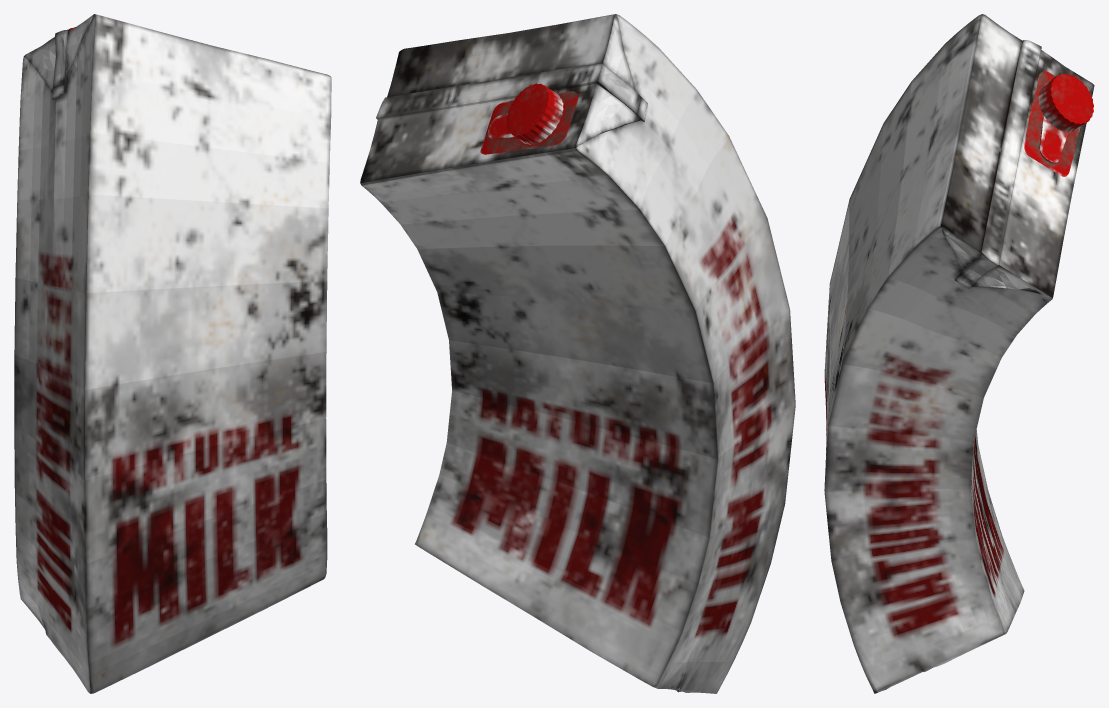
File: bend_high_1.obj
The picture shows the model from 3 angles, left to right: view 1: azimuth 30°, elevation 25°; view 2: azimuth 150°, elevation 25°; view 3: azimuth 270°, elevation 25°; orthographic projection. The views are drawn at different scales.
Visible parts, largest first — view 1: model; view 2: model; view 3: model.
Boxes of the visible parts, bbox=[...] form: model: bbox=[14, 14, 331, 693]; model: bbox=[360, 14, 795, 693]; model: bbox=[824, 14, 1094, 693].
Bounding box in the file's own units: 0.1141 × 0.2296 × 0.0852.
Materials: 1 (1 with a texture image).
